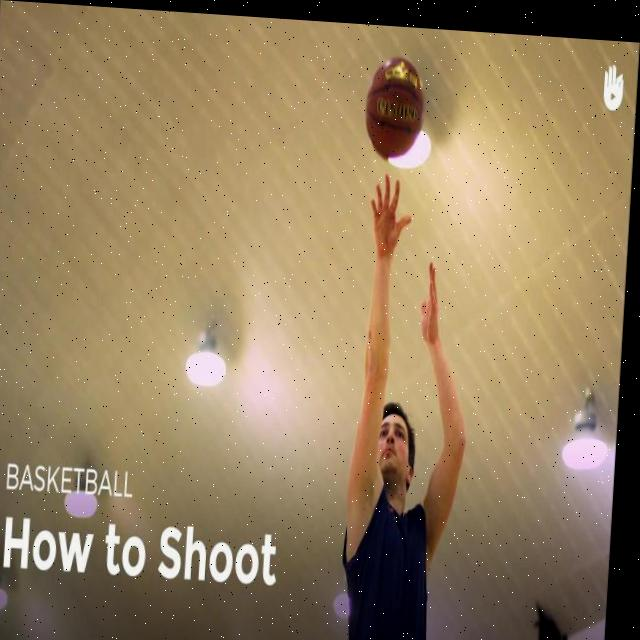Basketball: (363, 56, 427, 162)
